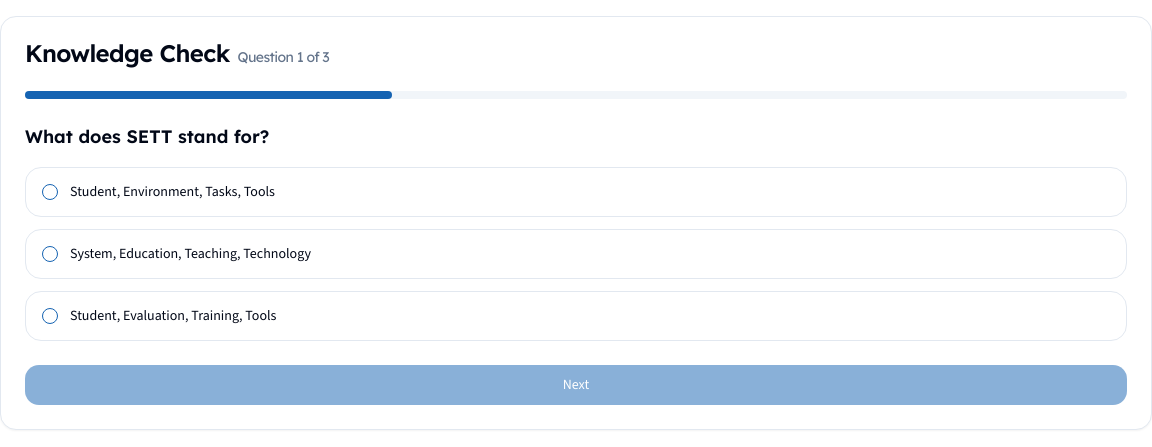
Test: Quiz Component › advances to the next question on Next click
Click the text "Student, Environment, Tasks, Tools".
click(172, 192)  # box [70, 182, 275, 201]
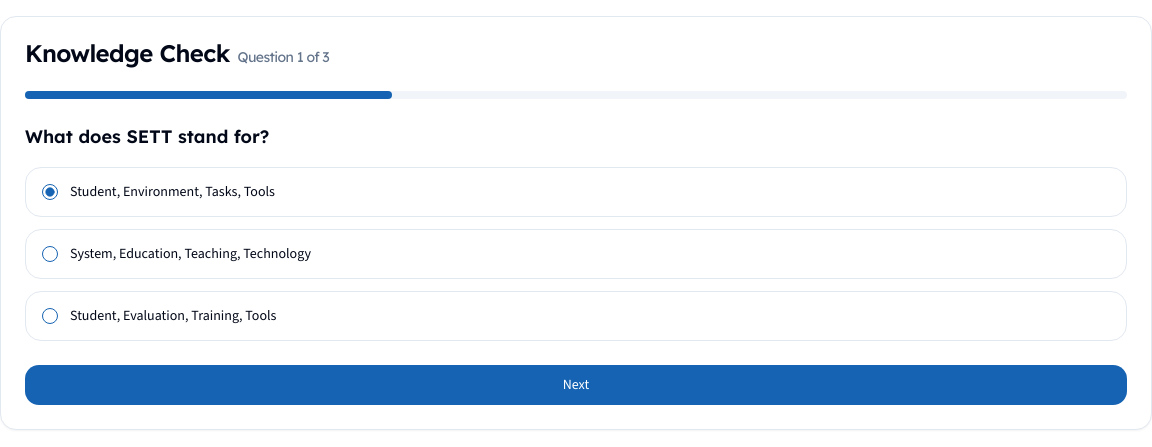
Click the button "Next".
click(576, 385)  # box [25, 365, 1127, 405]
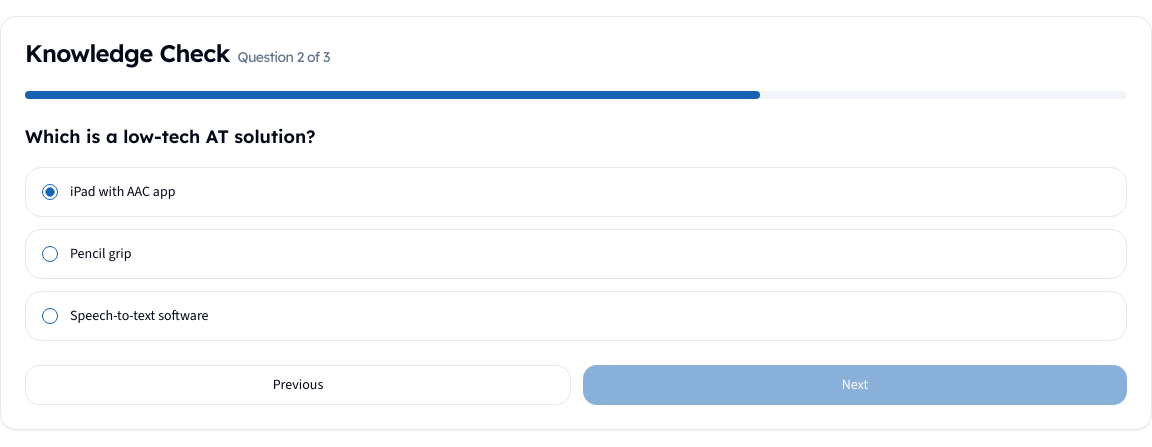
Expected: the heading "Which is a low-tech AT solution?" is shown, [25, 125, 316, 148]
Expected: the text "Question 2 of 3" is shown, [238, 48, 330, 66]
